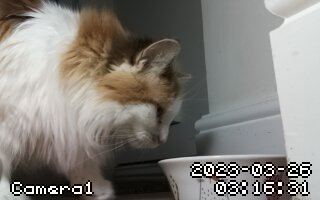clara: (2, 2, 192, 199)
